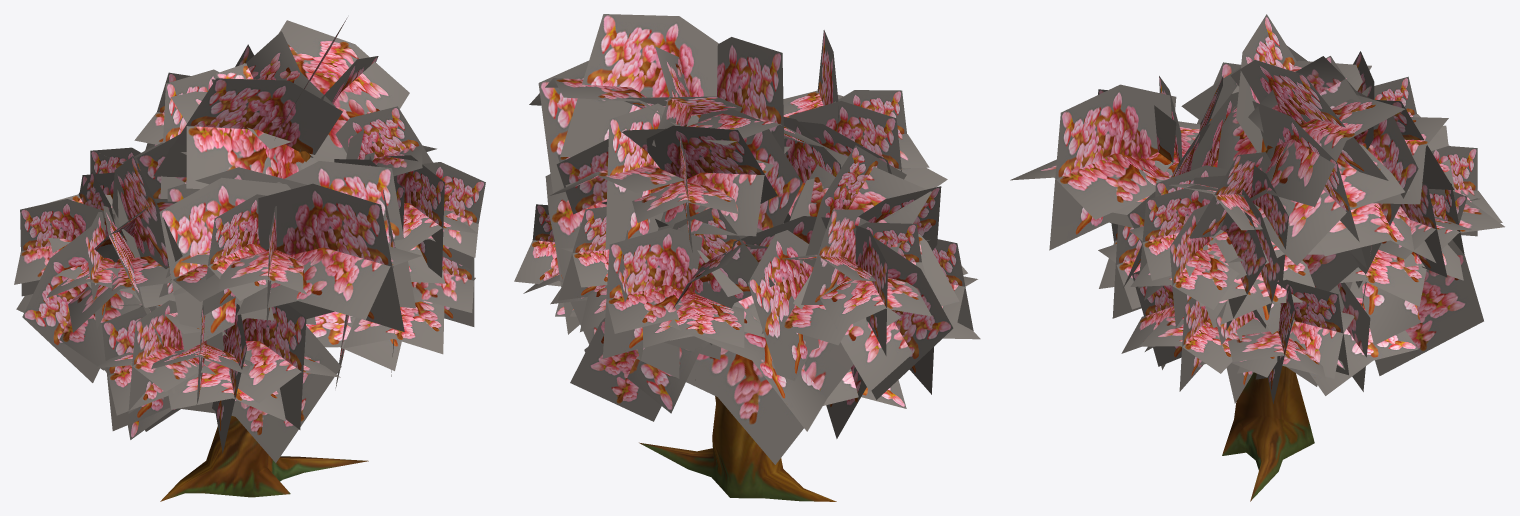
Rendered from Stage_JingJiChang_TaoShu02.FBX.
The picture shows the model from 3 angles, left to right: view 1: azimuth 30°, elevation 25°; view 2: azimuth 150°, elevation 25°; view 3: azimuth 270°, elevation 25°; orthographic projection. The views are drawn at different scales.
Parts seen in each view (by area): view 1: Stage_JingJiChang_TaoShu02; view 2: Stage_JingJiChang_TaoShu02; view 3: Stage_JingJiChang_TaoShu02.
Part boxes in pixels (x1=…): Stage_JingJiChang_TaoShu02: x1=14, y1=17, x2=485, y2=501; Stage_JingJiChang_TaoShu02: x1=514, y1=14, x2=980, y2=501; Stage_JingJiChang_TaoShu02: x1=1010, y1=14, x2=1504, y2=501.
Bounding box in the file's own units: 1004 × 982 × 1026.
